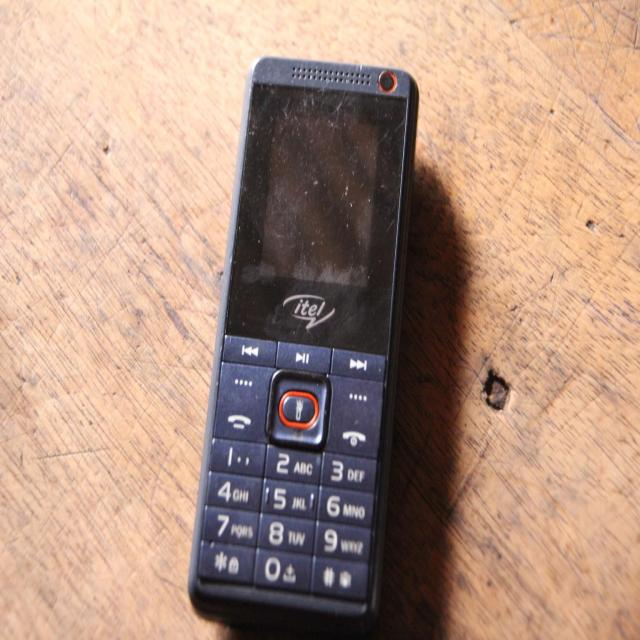Phone: (181, 47, 423, 630)
